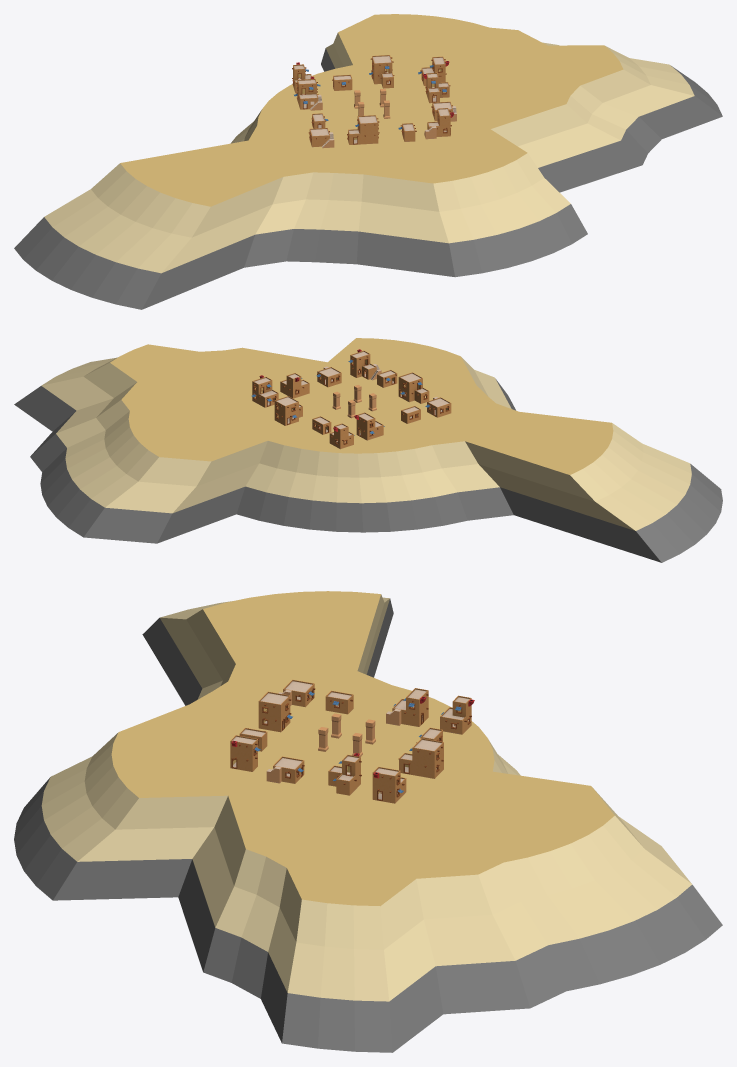
Rendered from Island4.glb.
The picture shows the model from 3 angles, top to bottom: view 1: azimuth 30°, elevation 25°; view 2: azimuth 150°, elevation 25°; view 3: azimuth 270°, elevation 25°; orthographic projection. The views are drawn at different scales.
Visible parts, largest first — view 1: Cylinder.003, house_015_01 - Default_0, house_020_01 - Default_0, house_016_01 - Default_0, house_013_01 - Default_0, house_012_01 - Default_0; view 2: Cylinder.003, house_015_01 - Default_0, house_020_01 - Default_0, house_019_01 - Default_0, house_016_01 - Default_0, house_012_01 - Default_0, house_013_01 - Default_0, house_014_01 - Default_0, house_010_01 - Default_0, house_021_01 - Default_0; view 3: Cylinder.003, house_020_01 - Default_0, house_015_01 - Default_0, house_019_01 - Default_0, house_013_01 - Default_0, house_016_01 - Default_0, house_014_01 - Default_0, house_012_01 - Default_0.
Boxes of the visible parts, bbox=[...] form: Cylinder.003: bbox=[14, 14, 722, 309]; house_015_01 - Default_0: bbox=[347, 115, 379, 144]; house_020_01 - Default_0: bbox=[369, 55, 394, 88]; house_016_01 - Default_0: bbox=[294, 76, 320, 109]; house_013_01 - Default_0: bbox=[423, 72, 450, 103]; house_012_01 - Default_0: bbox=[427, 108, 453, 136]; Cylinder.003: bbox=[14, 338, 722, 562]; house_015_01 - Default_0: bbox=[398, 372, 429, 403]; house_020_01 - Default_0: bbox=[274, 396, 302, 425]; house_019_01 - Default_0: bbox=[251, 375, 278, 407]; house_016_01 - Default_0: bbox=[354, 412, 384, 440]; house_012_01 - Default_0: bbox=[348, 349, 376, 379]; house_013_01 - Default_0: bbox=[280, 373, 309, 398]; house_014_01 - Default_0: bbox=[329, 423, 354, 449]; house_010_01 - Default_0: bbox=[425, 397, 451, 417]; house_021_01 - Default_0: bbox=[316, 367, 341, 387]; Cylinder.003: bbox=[14, 591, 722, 1052]; house_020_01 - Default_0: bbox=[398, 738, 443, 778]; house_015_01 - Default_0: bbox=[258, 691, 292, 732]; house_019_01 - Default_0: bbox=[372, 767, 406, 803]; house_013_01 - Default_0: bbox=[328, 753, 361, 795]; house_016_01 - Default_0: bbox=[392, 688, 428, 726]; house_014_01 - Default_0: bbox=[440, 695, 474, 734]; house_012_01 - Default_0: bbox=[230, 735, 260, 771].
Size of the model in its own units: 21.75 by 2.64 by 14.69.
Materials: 4 (1 with a texture image).
